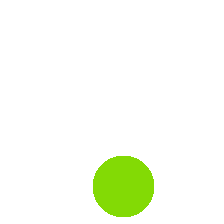circle: (93, 156, 153, 216)
